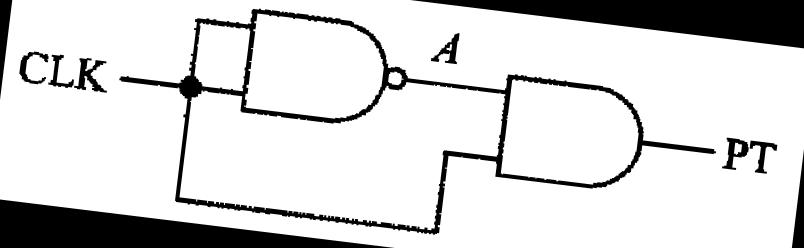and: (488, 66, 658, 204)
nand: (231, 0, 423, 141)
